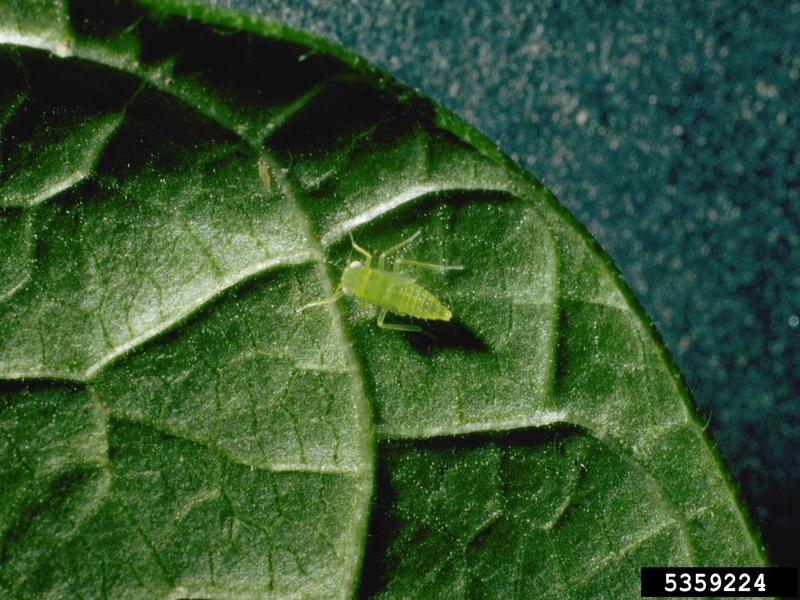Brown_plant_leafhopper: (305, 210, 466, 357)
